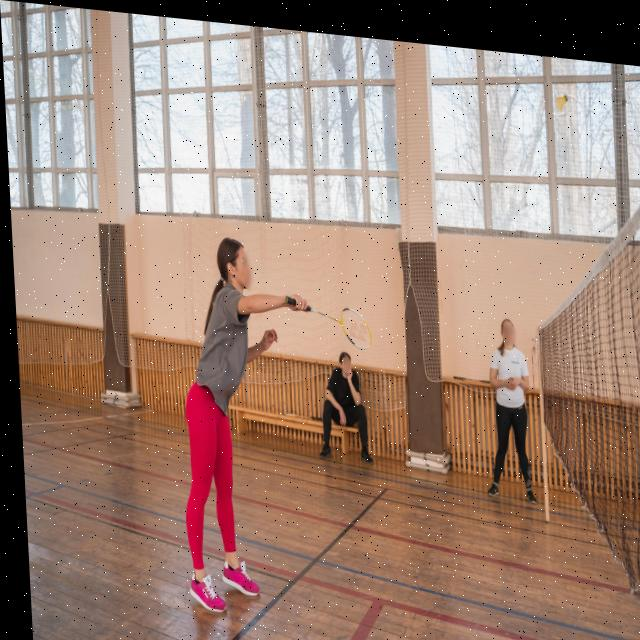Person: (159, 220, 288, 630), (467, 296, 537, 521), (300, 339, 386, 463)
